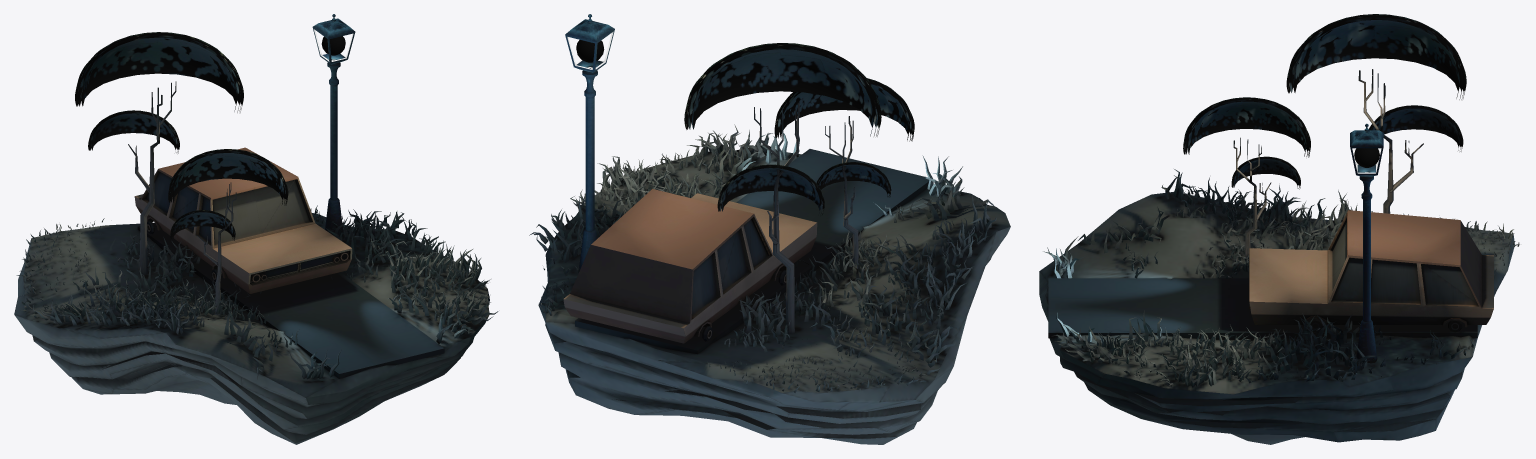
Rendered from car_terrain.fbx.
3 renders of one model, left to right at view 1: azimuth 30°, elevation 25°; view 2: azimuth 150°, elevation 25°; view 3: azimuth 270°, elevation 25°, orthographic. The views are drawn at different scales.
Parts seen in each view (by area): view 1: Cube_1, Hair_1, Auto_1_1, Tree_1_1, Tree_1_1_1, paal; view 2: Cube_1, Hair_1, Auto_1_1, Tree_1_1, Tree_1_1_1, paal, Sphere; view 3: Cube_1, Auto_1_1, Hair_1, Tree_1_1, Tree_1_1_1, paal.
Boxes of the visible parts, x1=… form: Cube_1: x1=14, y1=213, x2=489, y2=444; Hair_1: x1=16, y1=205, x2=498, y2=379; Auto_1_1: x1=134, y1=147, x2=352, y2=293; Tree_1_1: x1=75, y1=32, x2=243, y2=274; Tree_1_1_1: x1=168, y1=149, x2=288, y2=315; paal: x1=312, y1=14, x2=355, y2=234; Cube_1: x1=538, y1=145, x2=1010, y2=444; Hair_1: x1=529, y1=124, x2=996, y2=392; Auto_1_1: x1=563, y1=189, x2=817, y2=343; Tree_1_1: x1=684, y1=43, x2=881, y2=334; Tree_1_1_1: x1=774, y1=78, x2=914, y2=270; paal: x1=565, y1=14, x2=614, y2=272; Sphere: x1=576, y1=40, x2=604, y2=62; Cube_1: x1=1039, y1=192, x2=1514, y2=444; Auto_1_1: x1=1249, y1=210, x2=1493, y2=332; Hair_1: x1=1043, y1=169, x2=1519, y2=387; Tree_1_1: x1=1286, y1=14, x2=1466, y2=213; Tree_1_1_1: x1=1183, y1=97, x2=1310, y2=266; paal: x1=1350, y1=123, x2=1383, y2=363.
Bounding box in the file's own units: 1793 × 1624 × 1891.
